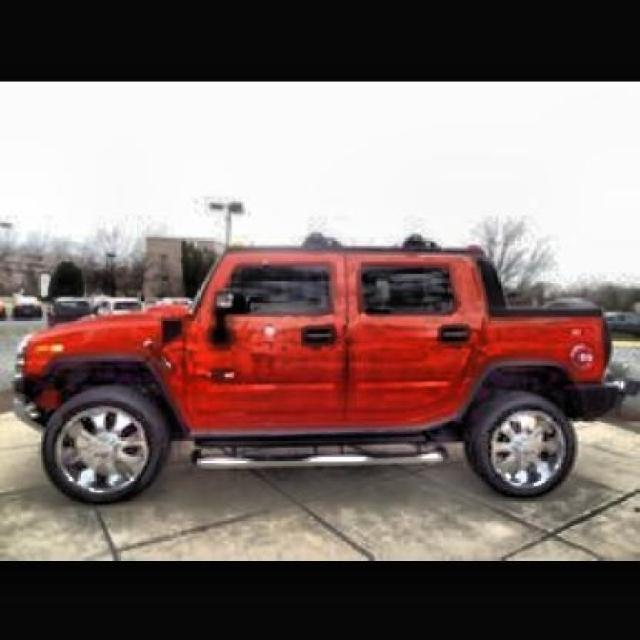red: (11, 245, 625, 507)
